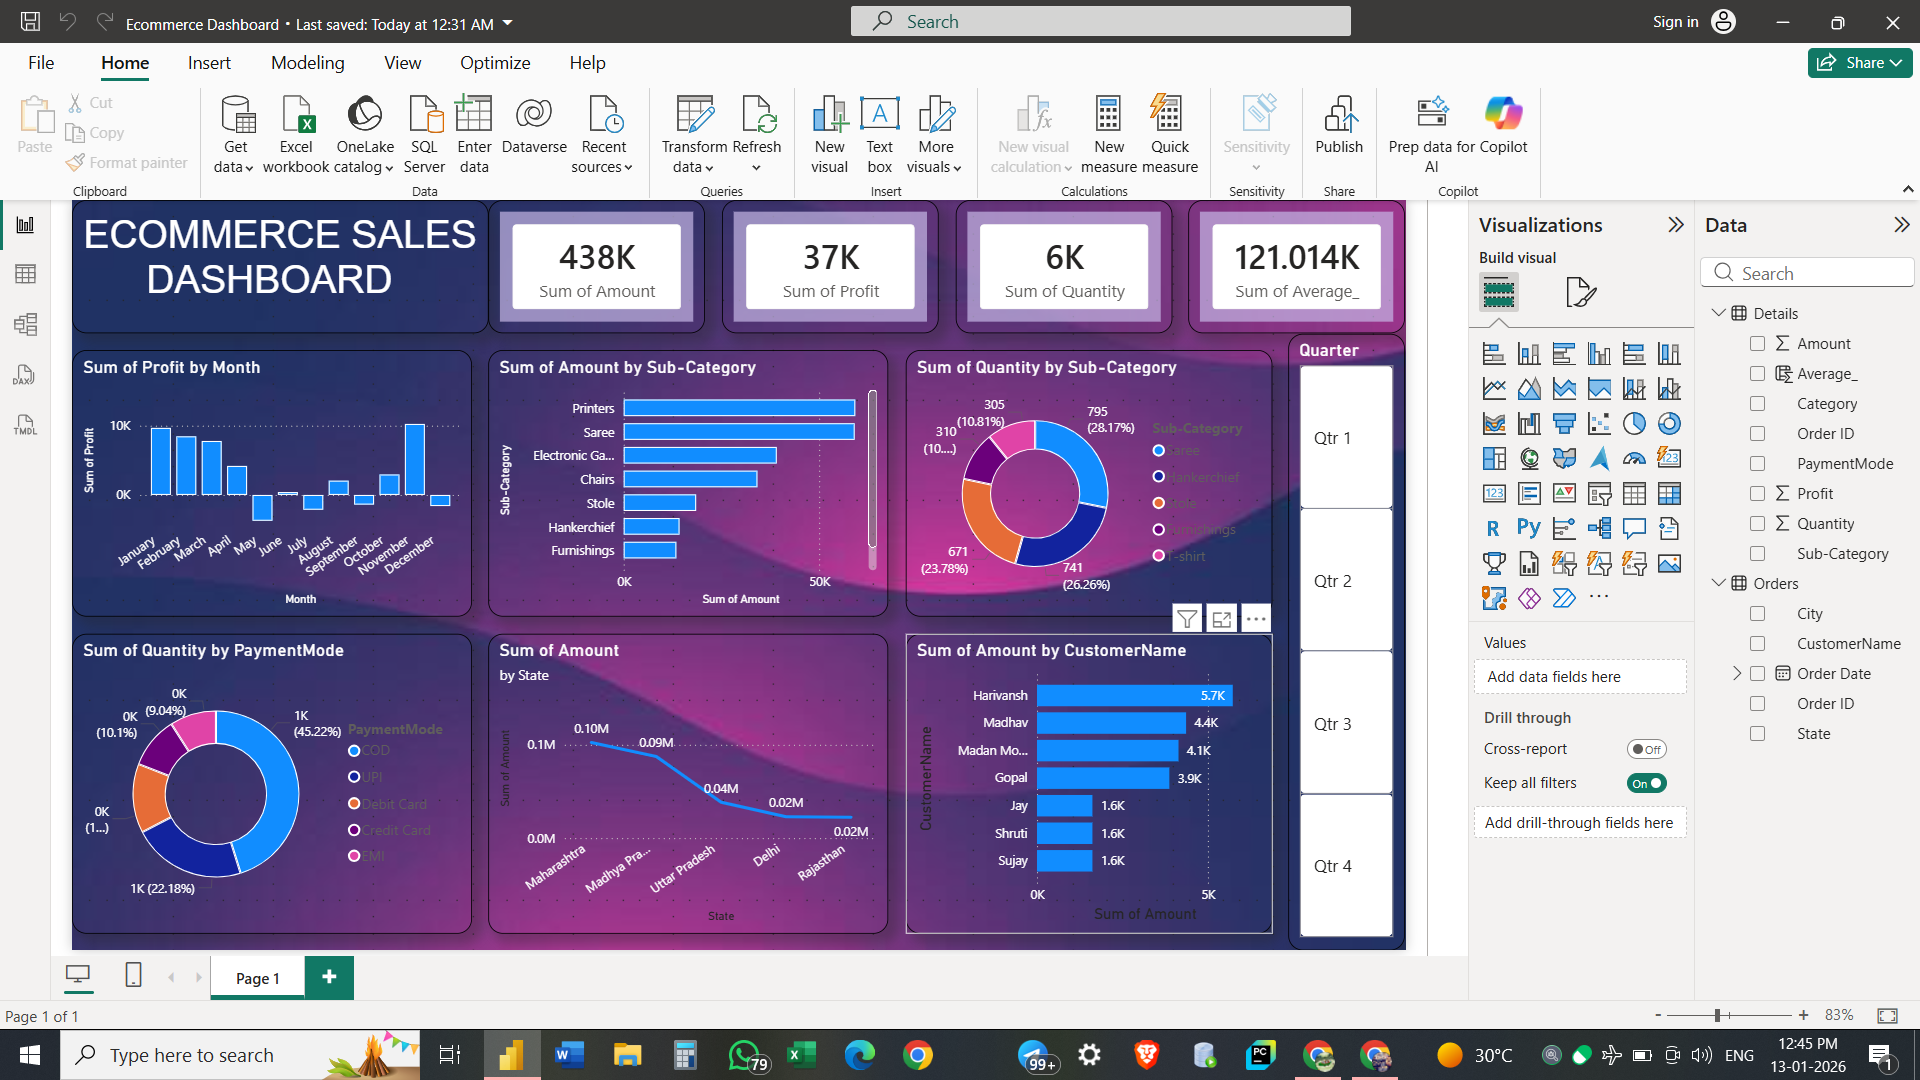

This screenshot's page, from the dashboard's own definition file:
{"tool":"powerbi","page":{"name":"Page 1","canvas":[1280,720],"ordinal":0},"visuals":[{"type":"textbox","box":[0,0,400,128],"z":0},{"type":"columnChart","fields":{"Category":["Orders.Order Date.Variation.Date Hierarchy.Month"],"Y":["Sum(Details.Profit)"]},"box":[0,144,384,256],"z":1000},{"type":"barChart","fields":{"Category":["Details.Sub-Category"],"Y":["Sum(Details.Amount)"]},"box":[400,144,384,256],"z":2000},{"type":"donutChart","fields":{"Category":["Details.Sub-Category"],"Y":["Sum(Details.Quantity)"]},"box":[800,144,352,256],"z":3000},{"type":"donutChart","fields":{"Y":["Sum(Details.Quantity)"],"Category":["Details.PaymentMode"]},"box":[0,416,384,288],"z":4000},{"type":"cardVisual","fields":{"Data":["Sum(Details.Amount)"]},"box":[400,0,208,128],"z":5000},{"type":"cardVisual","fields":{"Data":["Sum(Details.Profit)"]},"box":[624,0,208,128],"z":6000},{"type":"cardVisual","fields":{"Data":["Sum(Details.Quantity)"]},"box":[848,0,208,128],"z":7000},{"type":"cardVisual","fields":{"Data":["Sum(Details.Average_)"]},"box":[1072,0,208,128],"z":8000},{"type":"lineChart","fields":{"Category":["Orders.State"],"Y":["Sum(Details.Amount)"]},"box":[400,416,384,288],"z":9000},{"type":"barChart","fields":{"Y":["Sum(Details.Amount)"],"Category":["Orders.CustomerName"]},"box":[800,416,352,288],"z":10000},{"type":"advancedSlicerVisual","fields":{"Values":["Orders.Order Date.Variation.Date Hierarchy.Quarter"]},"box":[1168,128,112,592],"z":10001}]}

Visuals, with their boxes on the page's 1280x720 design canvas (x1, y1, x2, y2). These are canvas units, not pixel positions in the 1920x1080 screenshot, which may show the page scaled, cropped or inside an application window:
textbox: x1=0 y1=0 x2=400 y2=128
columnChart - Orders.Order Date.Variation.Date Hierarchy.Month x Sum(Details.Profit): x1=0 y1=144 x2=384 y2=400
barChart - Details.Sub-Category x Sum(Details.Amount): x1=400 y1=144 x2=784 y2=400
donutChart - Details.Sub-Category x Sum(Details.Quantity): x1=800 y1=144 x2=1152 y2=400
donutChart - Sum(Details.Quantity) x Details.PaymentMode: x1=0 y1=416 x2=384 y2=704
cardVisual - Sum(Details.Amount): x1=400 y1=0 x2=608 y2=128
cardVisual - Sum(Details.Profit): x1=624 y1=0 x2=832 y2=128
cardVisual - Sum(Details.Quantity): x1=848 y1=0 x2=1056 y2=128
cardVisual - Sum(Details.Average_): x1=1072 y1=0 x2=1280 y2=128
lineChart - Orders.State x Sum(Details.Amount): x1=400 y1=416 x2=784 y2=704
barChart - Sum(Details.Amount) x Orders.CustomerName: x1=800 y1=416 x2=1152 y2=704
advancedSlicerVisual - Orders.Order Date.Variation.Date Hierarchy.Quarter: x1=1168 y1=128 x2=1280 y2=720
